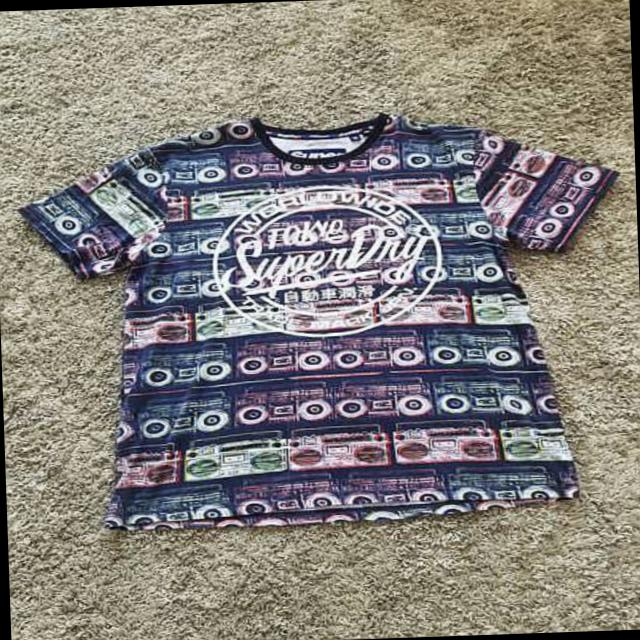T_SHIRT: (2, 93, 640, 543)
